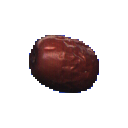gd: (16, 22, 114, 109)
